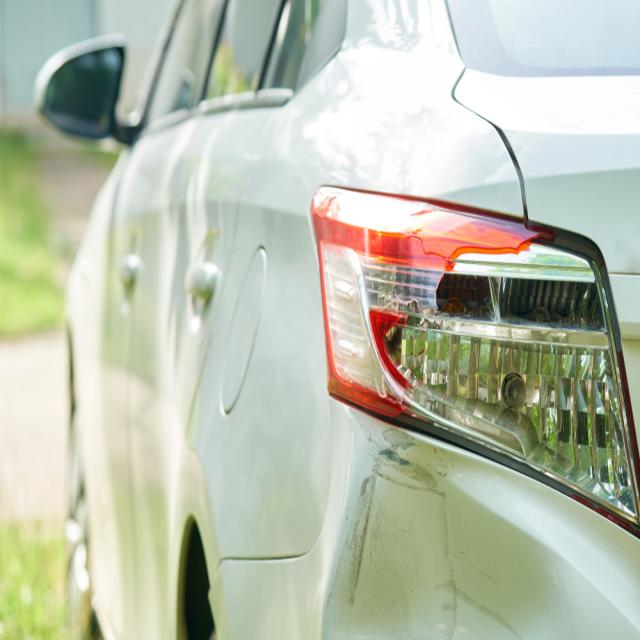dent: (320, 439, 563, 640)
lamp broken: (310, 185, 640, 540)
